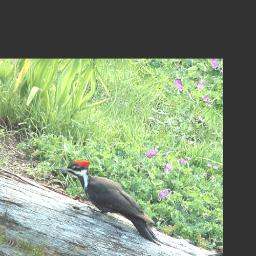Woodpecker: (44, 151, 180, 245)
